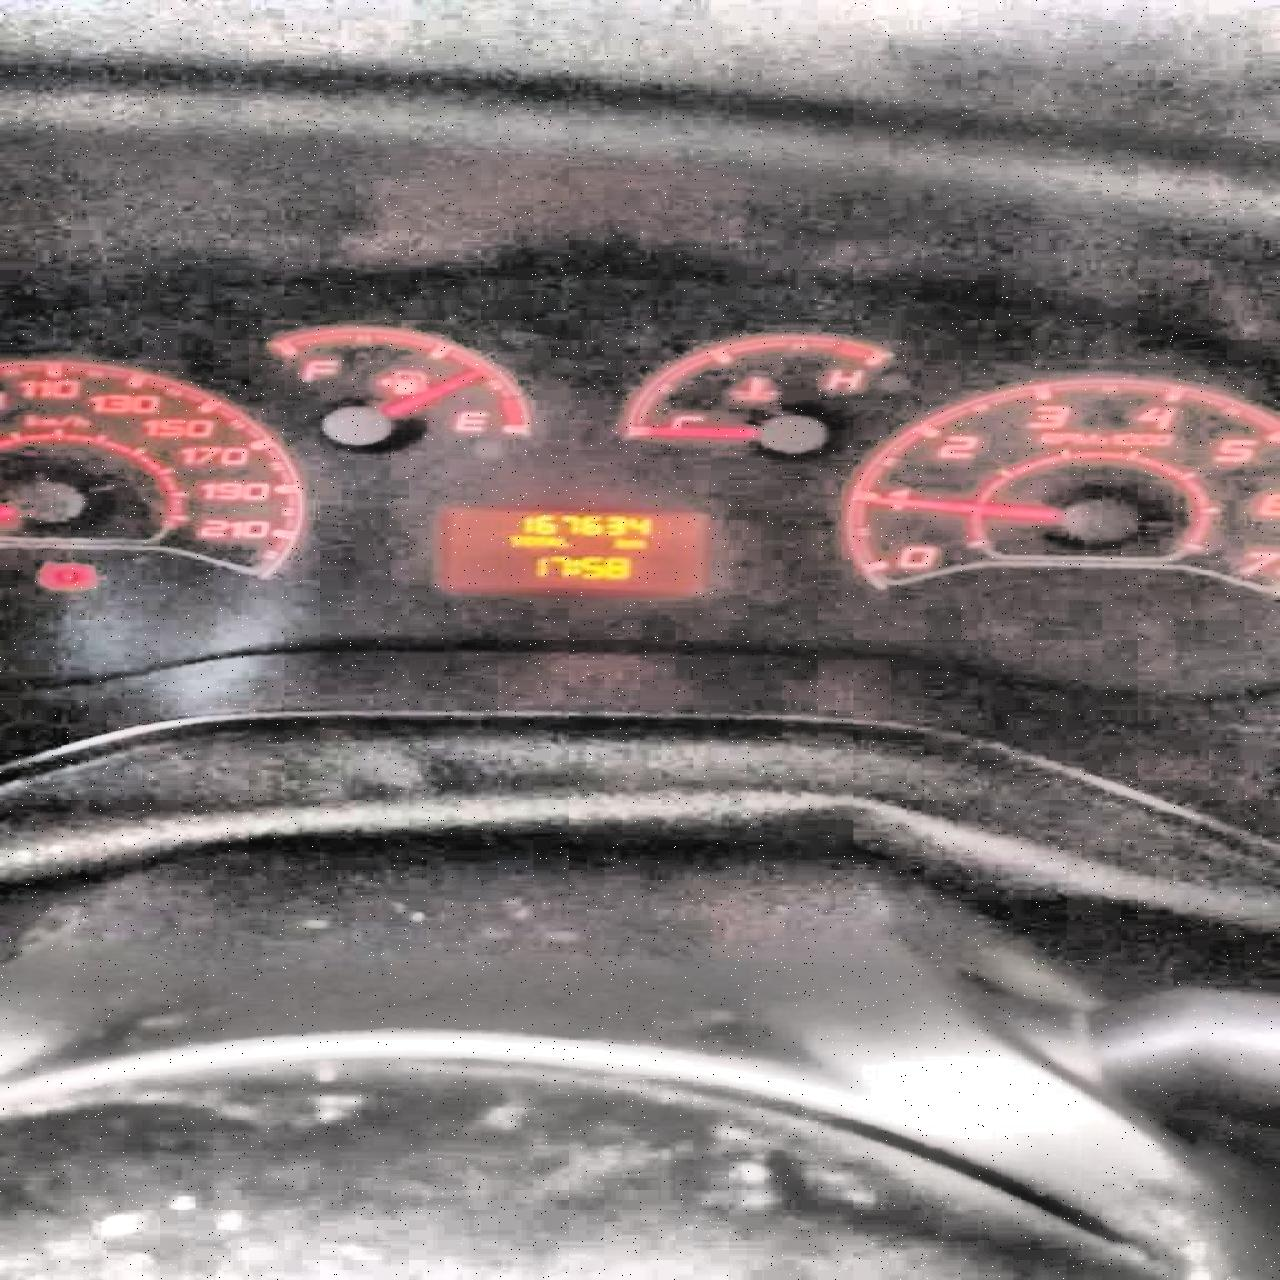1: (531, 557, 546, 578), (518, 515, 531, 535)
3: (602, 513, 625, 536)
4: (625, 516, 652, 535)
5: (578, 554, 602, 579)
6: (580, 512, 602, 536), (531, 515, 556, 535)
7: (546, 553, 566, 578), (556, 515, 578, 535)
8: (602, 557, 631, 579)
X: (625, 539, 647, 549), (506, 533, 520, 546), (519, 535, 533, 546), (611, 537, 625, 547), (568, 558, 578, 573), (545, 537, 556, 547), (556, 537, 566, 547), (533, 536, 545, 545)
odometer: (434, 498, 715, 598)
